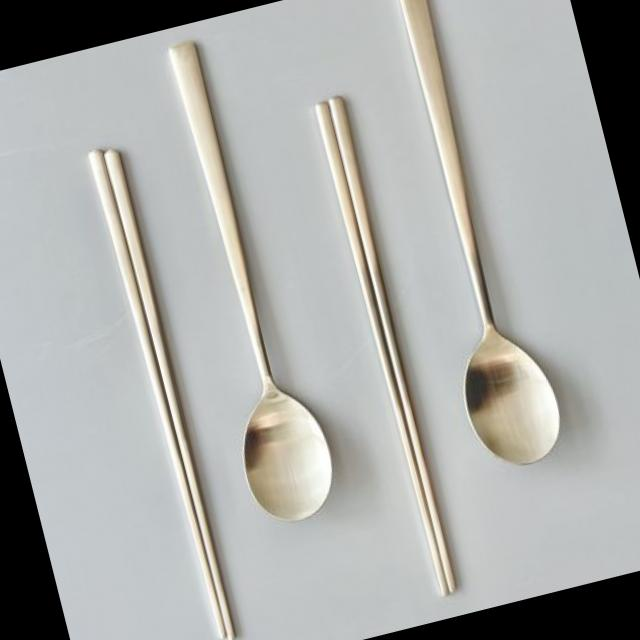spoon: (151, 34, 347, 538), (389, 1, 576, 484)
